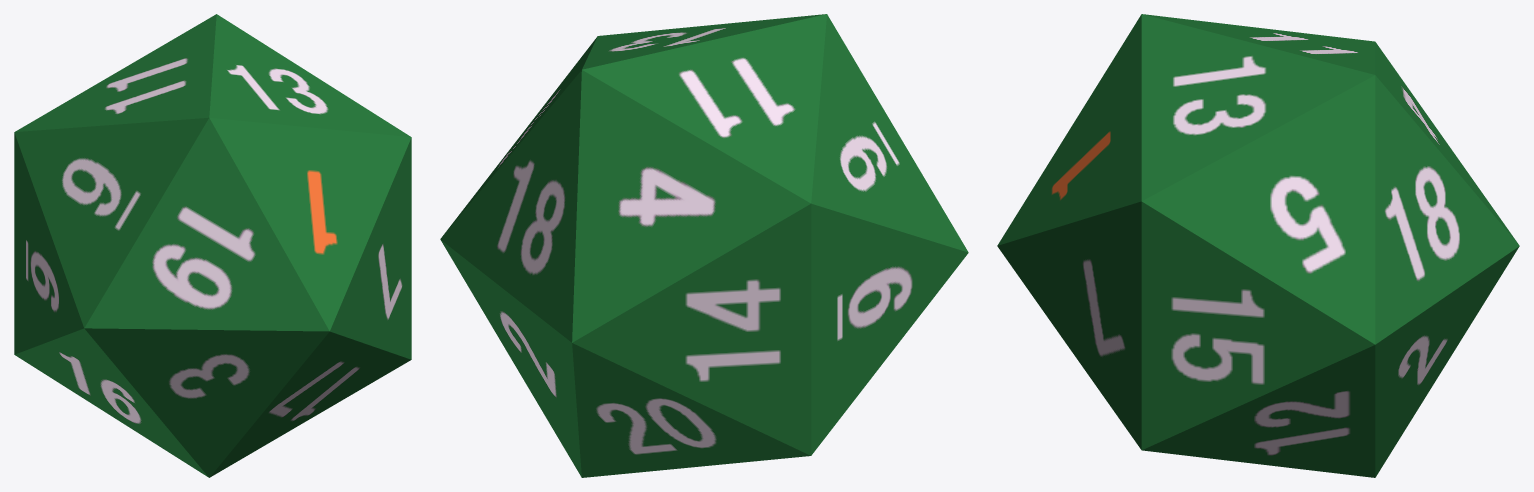
The picture shows the model from 3 angles, left to right: view 1: azimuth 30°, elevation 25°; view 2: azimuth 150°, elevation 25°; view 3: azimuth 270°, elevation 25°; orthographic projection. The views are drawn at different scales.
Parts seen in each view (by area): view 1: ICO球; view 2: ICO球; view 3: ICO球.
Part boxes in pixels (x1=…): ICO球: x1=14, y1=14, x2=411, y2=477; ICO球: x1=440, y1=14, x2=968, y2=477; ICO球: x1=997, y1=14, x2=1519, y2=477.
Bounding box in the file's own units: 1.79 × 1.7 × 2.
Materials: 1 (1 with a texture image).
